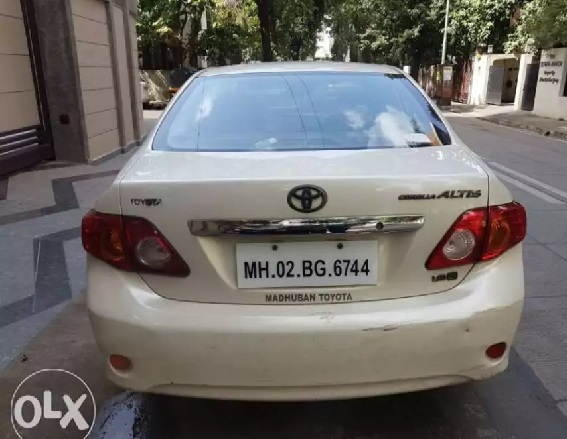licenseplate: (234, 240, 381, 287)
